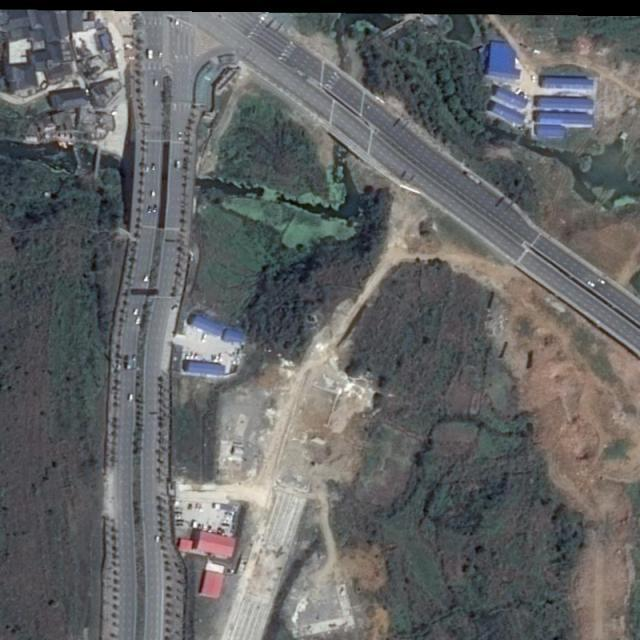vehicle: (583, 277, 598, 290), (594, 275, 608, 288), (142, 270, 152, 285), (126, 390, 134, 405), (132, 306, 141, 318), (146, 47, 154, 60), (217, 351, 225, 363), (177, 130, 185, 142), (174, 159, 182, 170), (151, 163, 157, 174), (150, 187, 156, 198), (200, 333, 206, 343), (147, 206, 153, 214), (153, 205, 158, 214), (154, 79, 158, 87)
